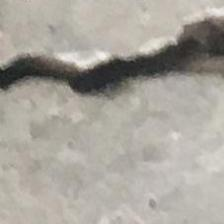Crack: (0, 8, 224, 130)
